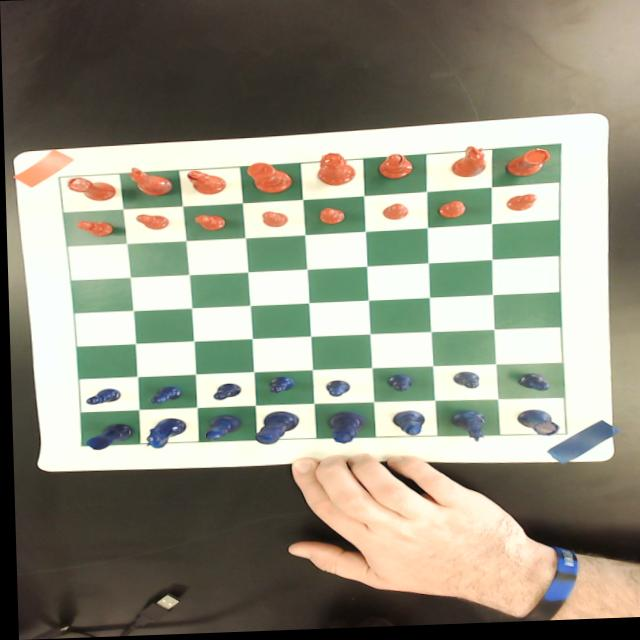B: (387, 412, 423, 440), (202, 416, 239, 441)
K: (251, 413, 298, 446)
N: (141, 417, 184, 451), (446, 412, 485, 447)
P: (513, 375, 548, 396), (148, 386, 181, 405), (84, 387, 120, 404), (382, 376, 413, 395), (264, 377, 294, 396), (450, 373, 478, 392), (211, 383, 239, 402), (324, 382, 348, 398)
Q: (323, 412, 364, 445)
R: (511, 412, 559, 441), (83, 423, 132, 450)
b: (185, 170, 227, 197), (377, 155, 414, 181)
k: (245, 163, 293, 195)
n: (127, 164, 174, 199), (449, 149, 485, 181)
p: (500, 193, 541, 218), (76, 216, 115, 241), (191, 212, 231, 235), (378, 204, 415, 227), (133, 211, 170, 233), (260, 211, 288, 233), (440, 203, 468, 225), (315, 209, 347, 226)
q: (316, 153, 355, 187)
r: (503, 151, 551, 180), (64, 176, 115, 201)
